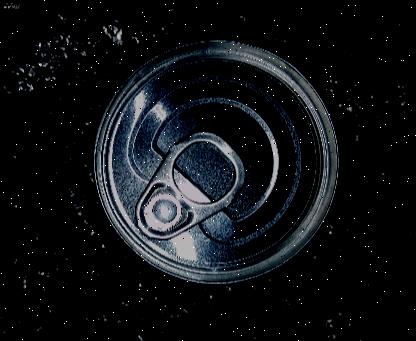Can: (93, 38, 338, 284)
